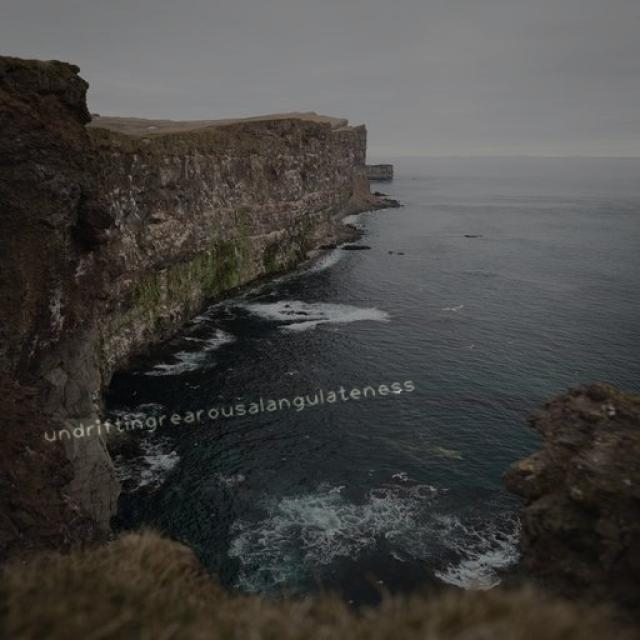watermark: (38, 376, 415, 446)
